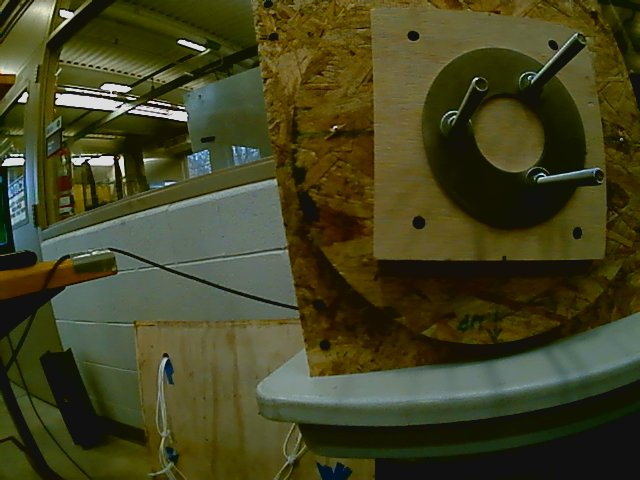bolt: (472, 75, 489, 94), (592, 166, 605, 184), (574, 32, 589, 47)
